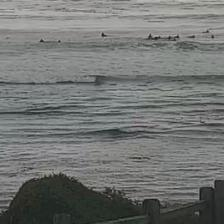surfer: (101, 32, 108, 38), (153, 35, 162, 39), (188, 35, 196, 39), (202, 29, 210, 33), (40, 39, 46, 43), (148, 33, 152, 39), (173, 38, 177, 42), (176, 35, 180, 39), (210, 34, 214, 38), (167, 36, 171, 39), (58, 40, 60, 43)
